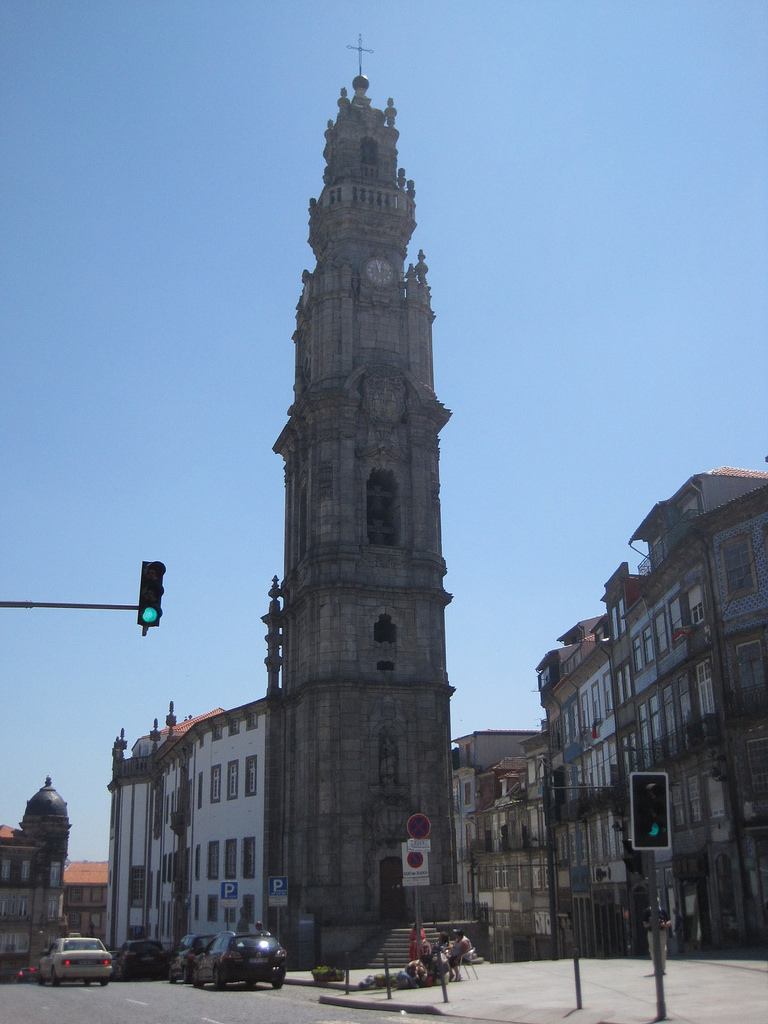clerigos: (272, 31, 461, 920)
